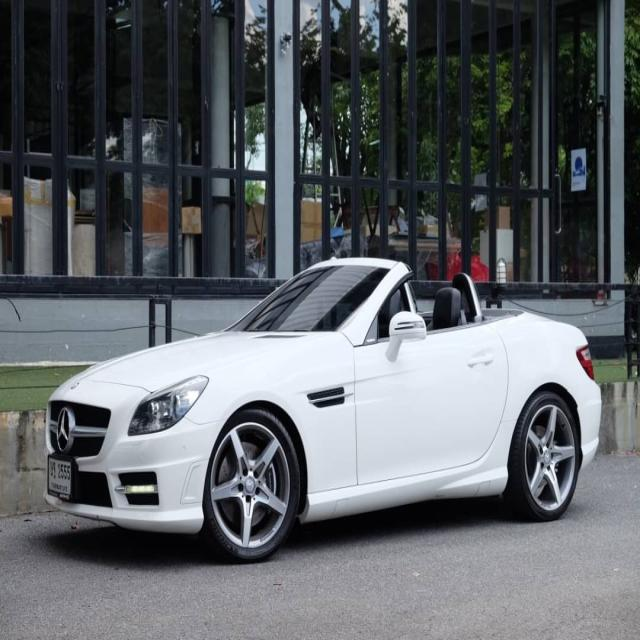license_plate: (40, 451, 85, 508)
